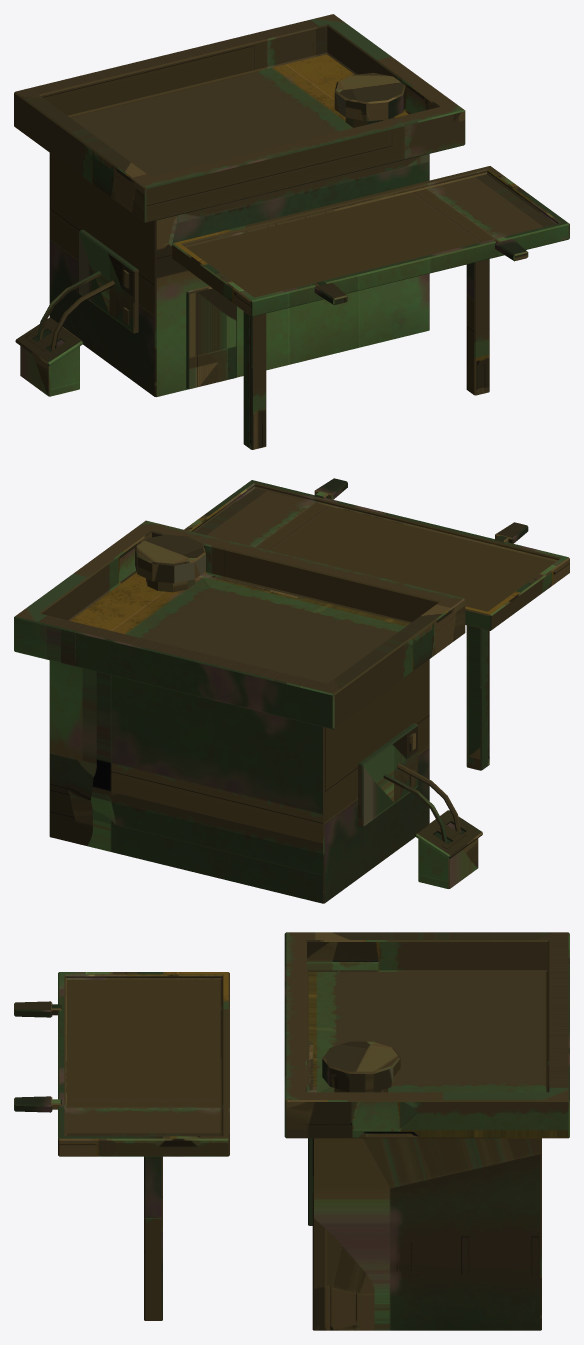
The model's file is build12.fbx.
3 renders of one model, top to bottom at view 1: azimuth 30°, elevation 25°; view 2: azimuth 150°, elevation 25°; view 3: azimuth 270°, elevation 25°, orthographic. The views are drawn at different scales.
Visible parts, largest first — view 1: BUILD12; view 2: BUILD12; view 3: BUILD12.
Boxes of the visible parts, box(x1,y1,x2,y2) form: BUILD12: box(14, 14, 569, 449); BUILD12: box(14, 478, 569, 903); BUILD12: box(14, 932, 569, 1330).
Size of the model in its own units: 821 by 492 by 969.
